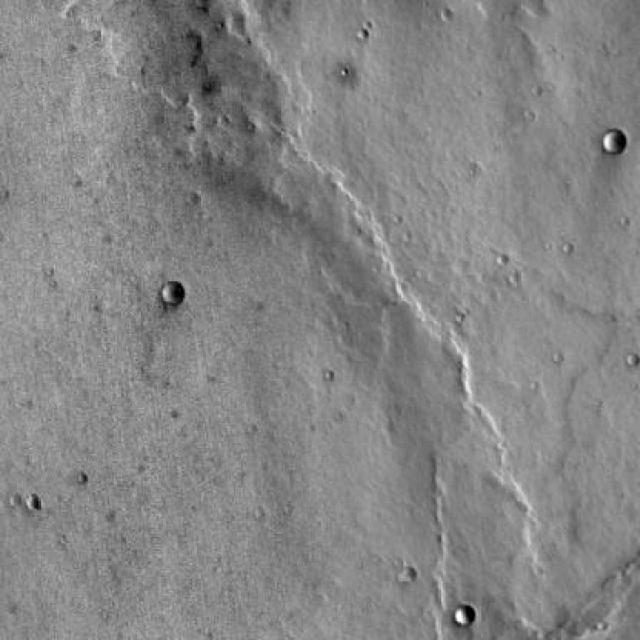crater: (158, 282, 184, 306), (603, 132, 626, 153), (456, 608, 476, 627)
